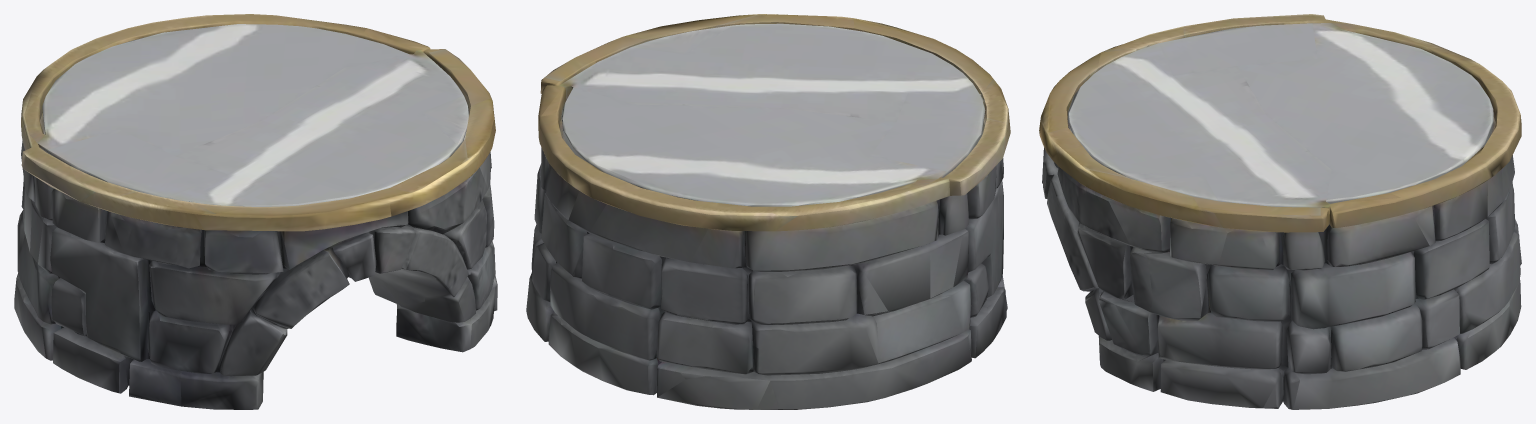
File: m2TowerLedgePlatform.glb
3 views of the same model, side by side, from view 1: azimuth 30°, elevation 25°; view 2: azimuth 150°, elevation 25°; view 3: azimuth 270°, elevation 25° (orthographic).
Parts seen in each view (by area): view 1: model; view 2: model; view 3: model.
Part boxes in pixels (left/top/right/bottom): model: left=14, top=14, right=497, bottom=409; model: left=526, top=14, right=1010, bottom=409; model: left=1039, top=14, right=1521, bottom=409.
Size of the model in its own units: 1.89 by 0.842 by 1.89.
1 material, 1 textured.
